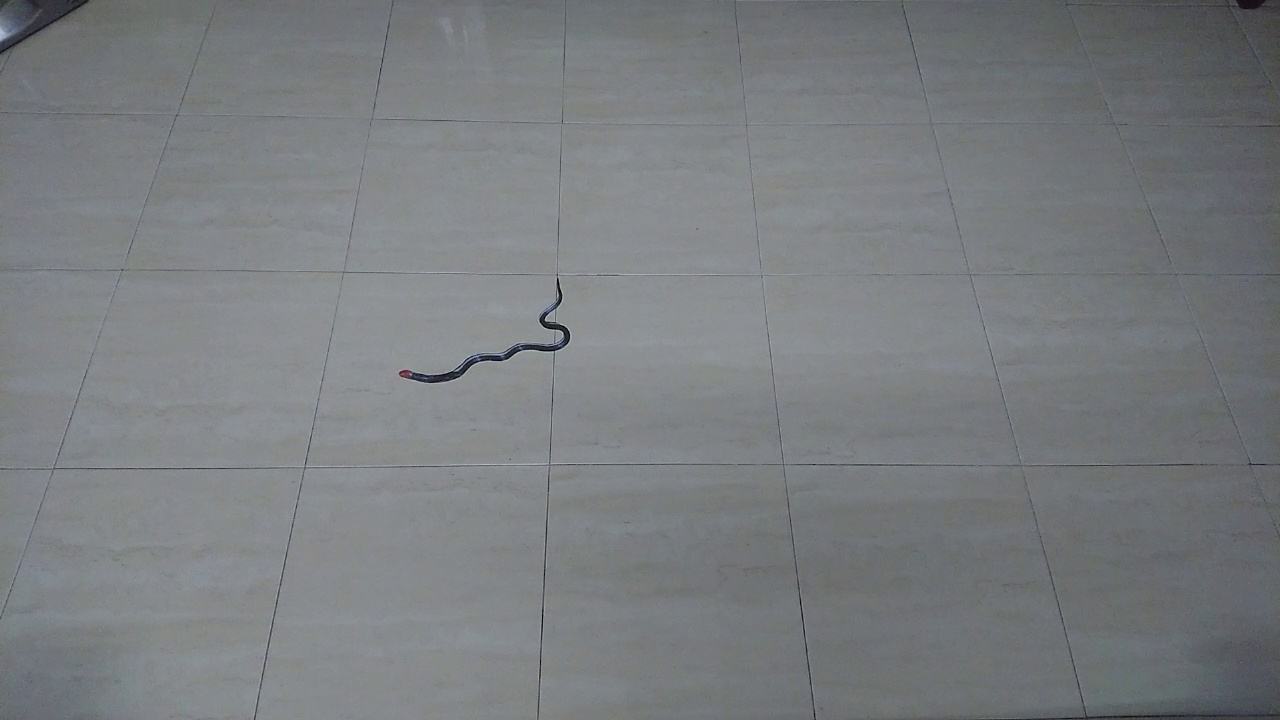snake: (382, 271, 586, 394)
